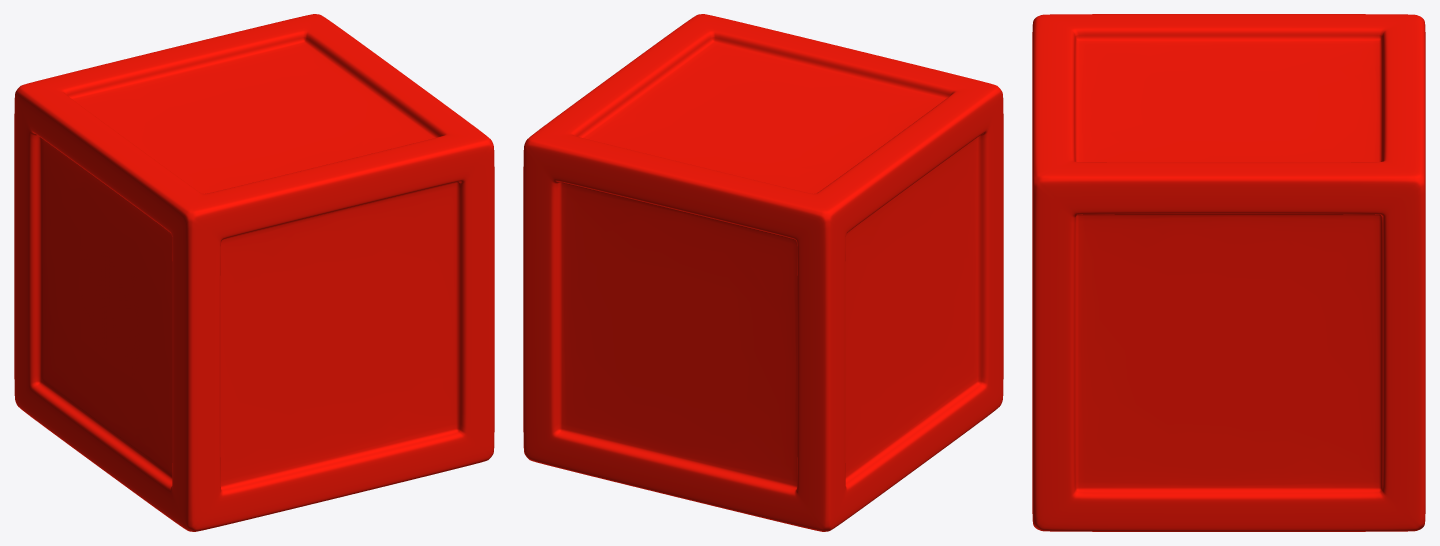
3 views of the same model, side by side, from view 1: azimuth 30°, elevation 25°; view 2: azimuth 150°, elevation 25°; view 3: azimuth 270°, elevation 25° (orthographic). The views are drawn at different scales.
Parts seen in each view (by area): view 1: Cube; view 2: Cube; view 3: Cube.
Boxes of the visible parts, <box> form: Cube: <box>14,14,494,531</box>; Cube: <box>523,14,1003,531</box>; Cube: <box>1032,14,1425,531</box>.
Size of the model in its own units: 0.2 by 0.2 by 0.2.
